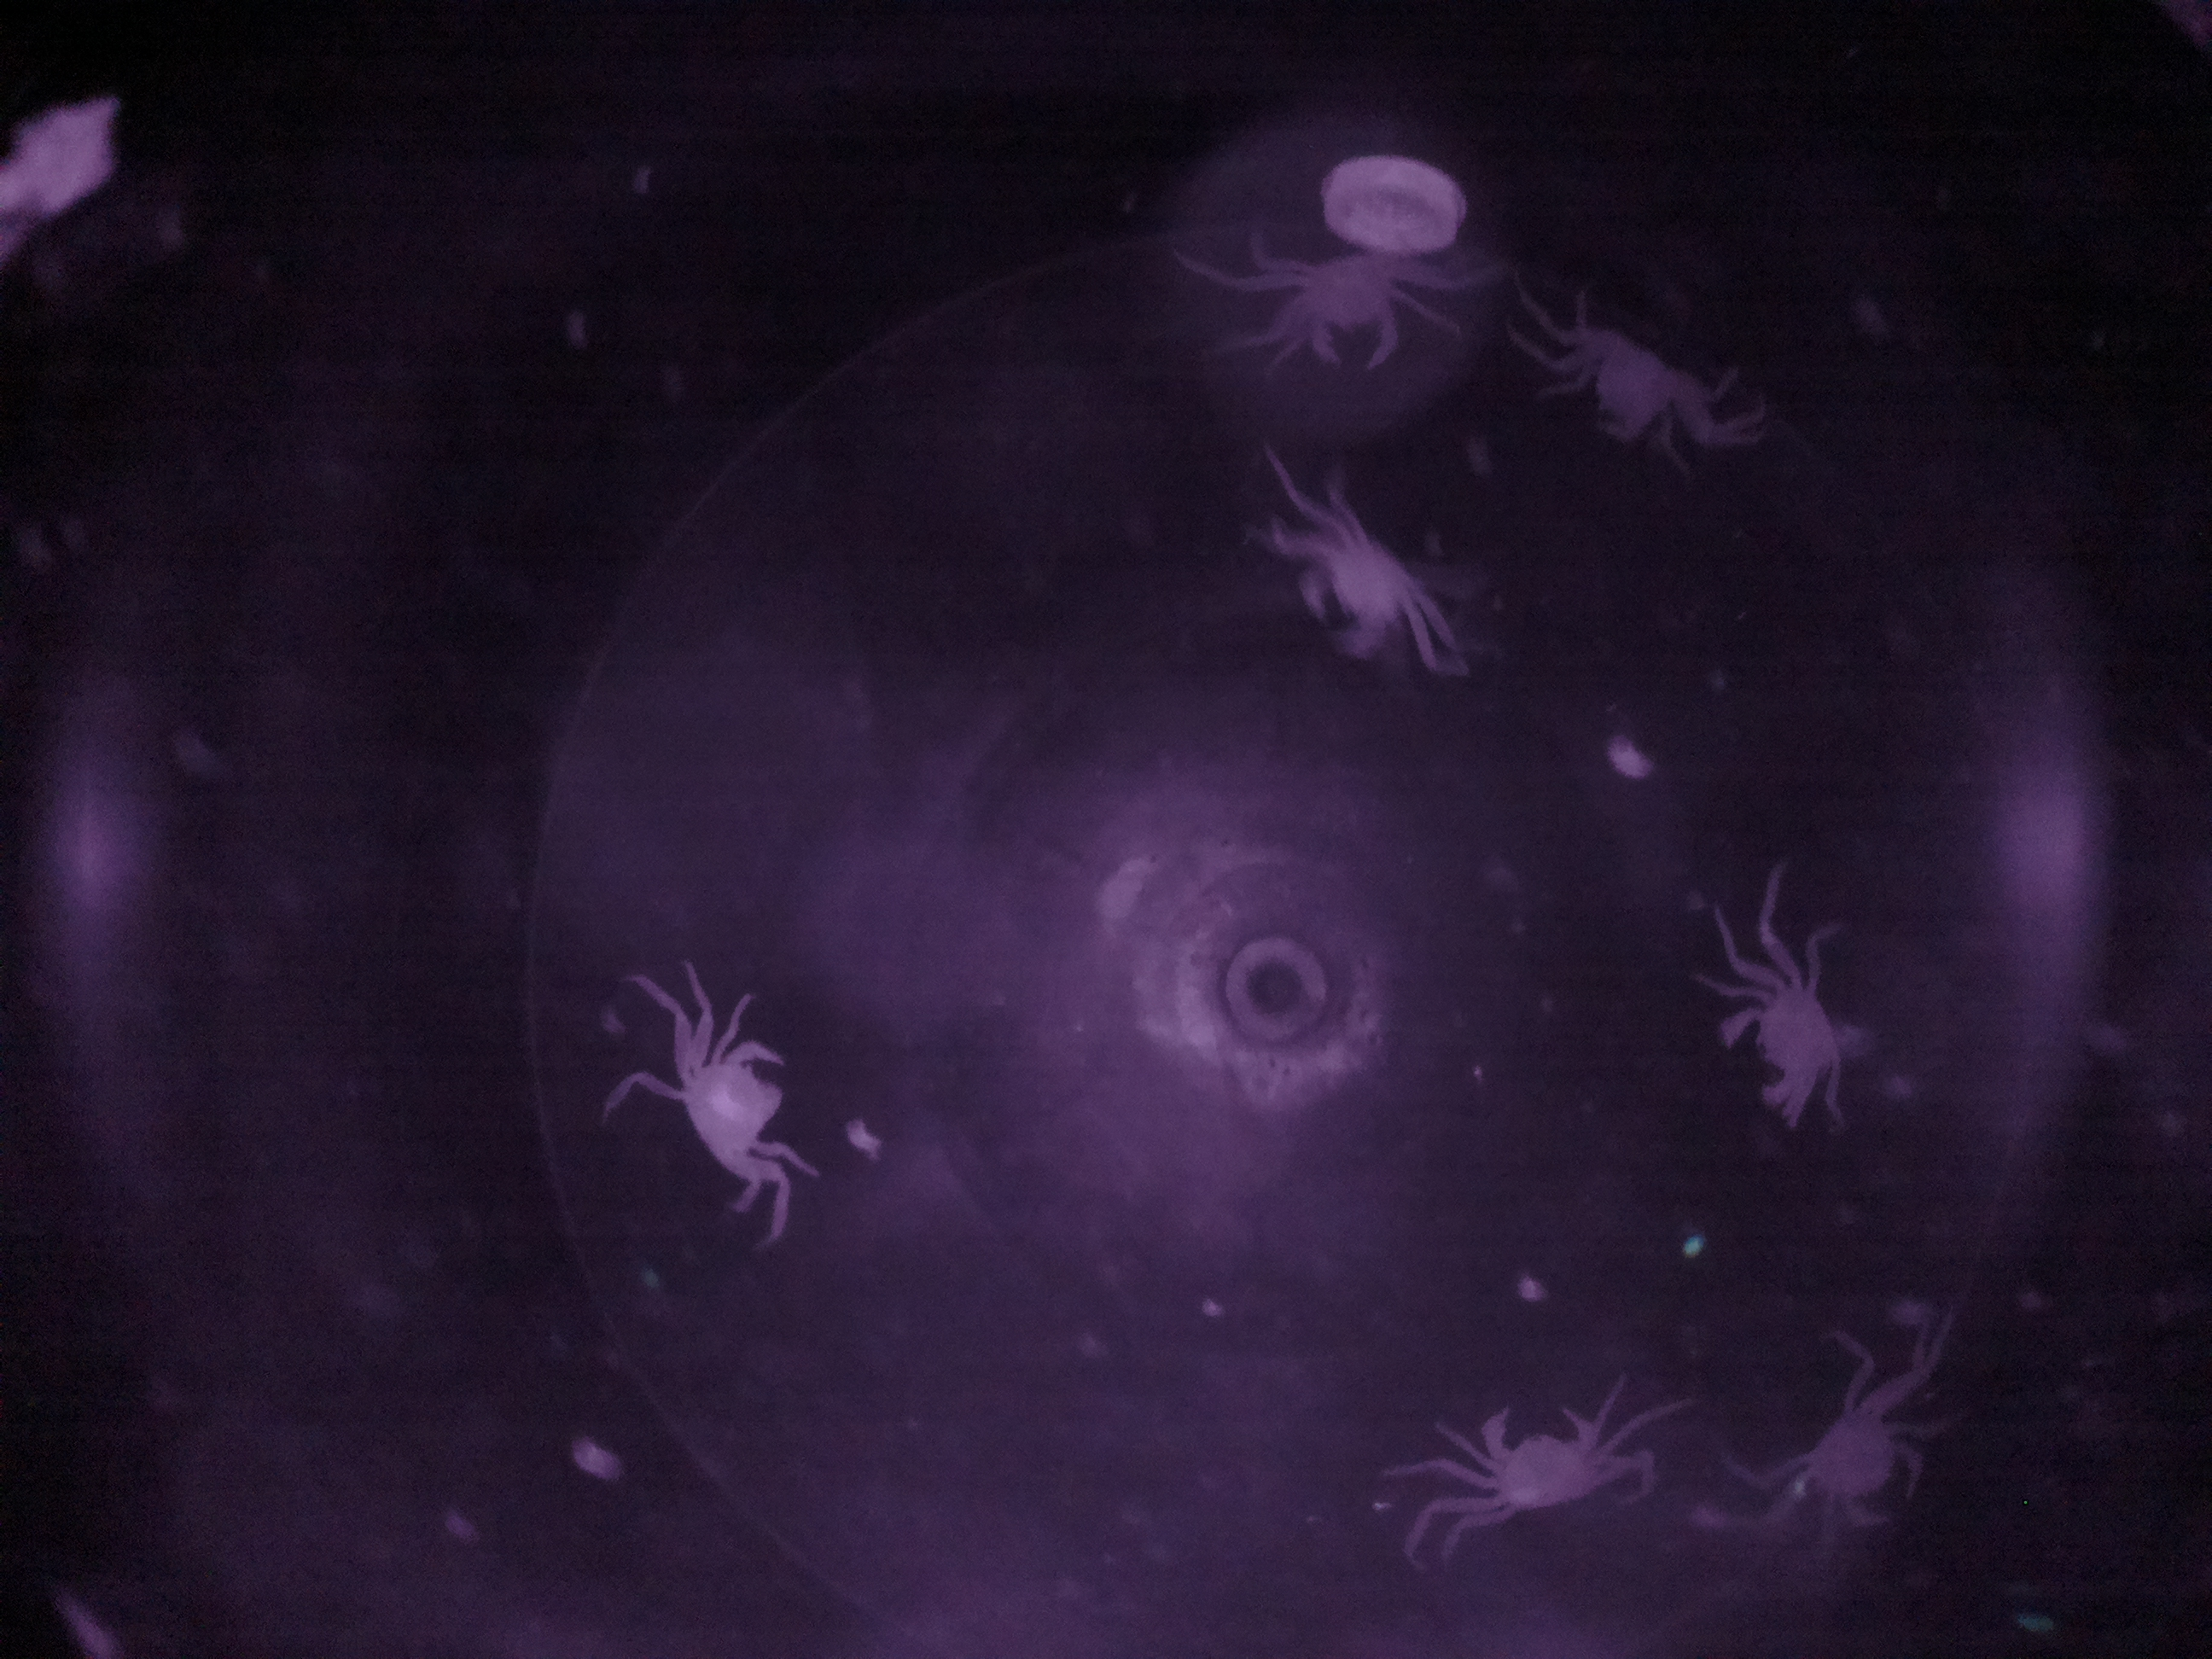Crab: (636, 1009, 836, 1244), (1446, 1380, 1632, 1537), (1696, 955, 1869, 1121), (1287, 228, 1432, 380)
